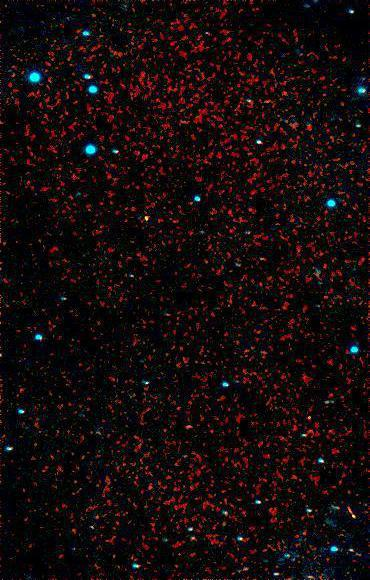star: (131, 203, 161, 233)
